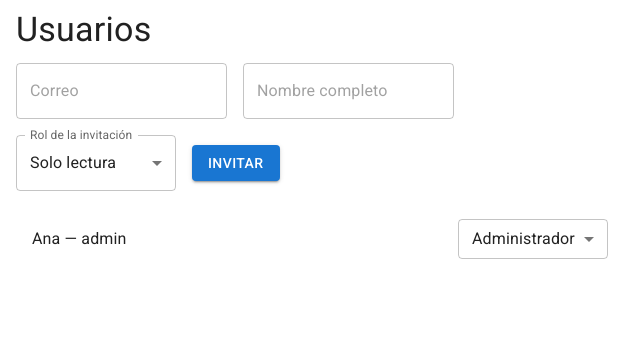
it: invites a user through the inviteUser client
This screenshot has width=641, height=340.
Check: the text "Ana — admin" is shown, box [32,229,126,248]
In the field with placeholder "Correo": (122, 91) [16,63,227,119], type "nuevo@b.com"
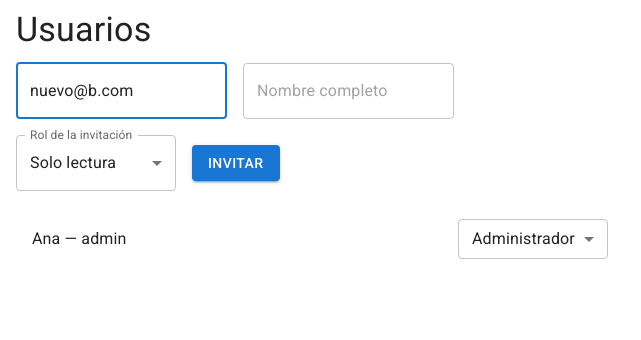
In the field with placeholder "Nombre completo": (348, 91) [243,63,454,119], type "Nuevo"
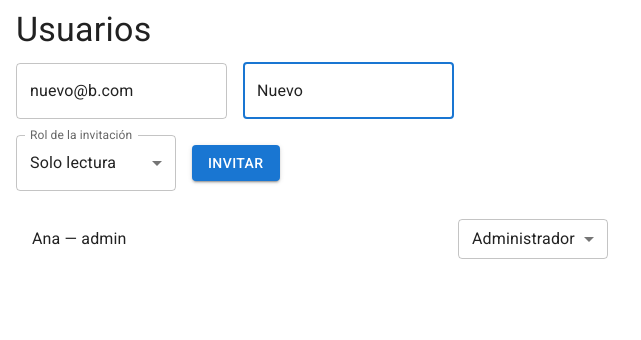
Click the button "Invitar": click(236, 163) [192,145,280,181]
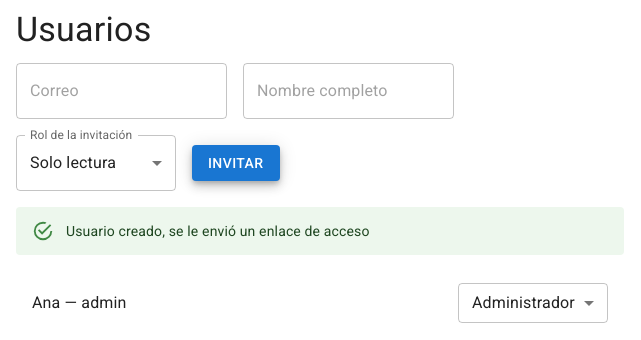
Check: the message shows "enlace de acceso", box [66,223,370,239]
